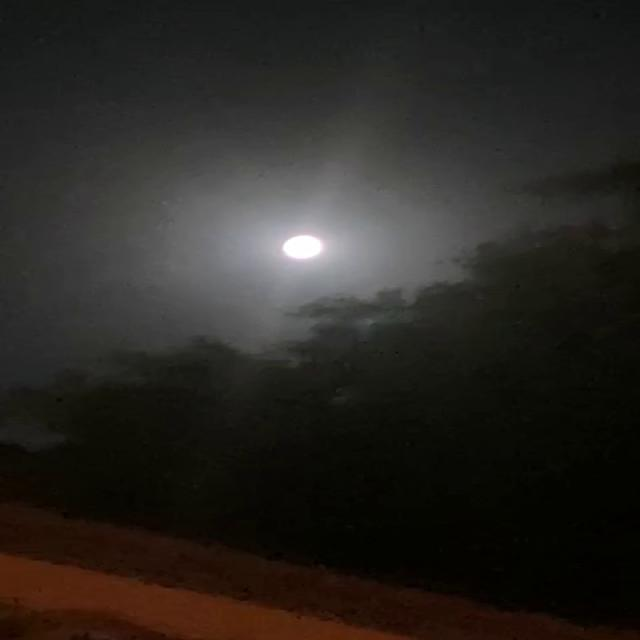moon: (221, 234, 304, 278)
